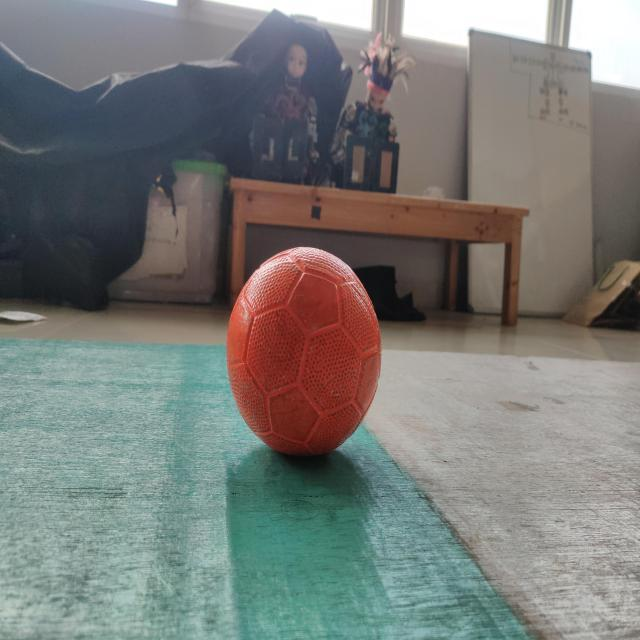bola: (224, 245, 385, 474)
